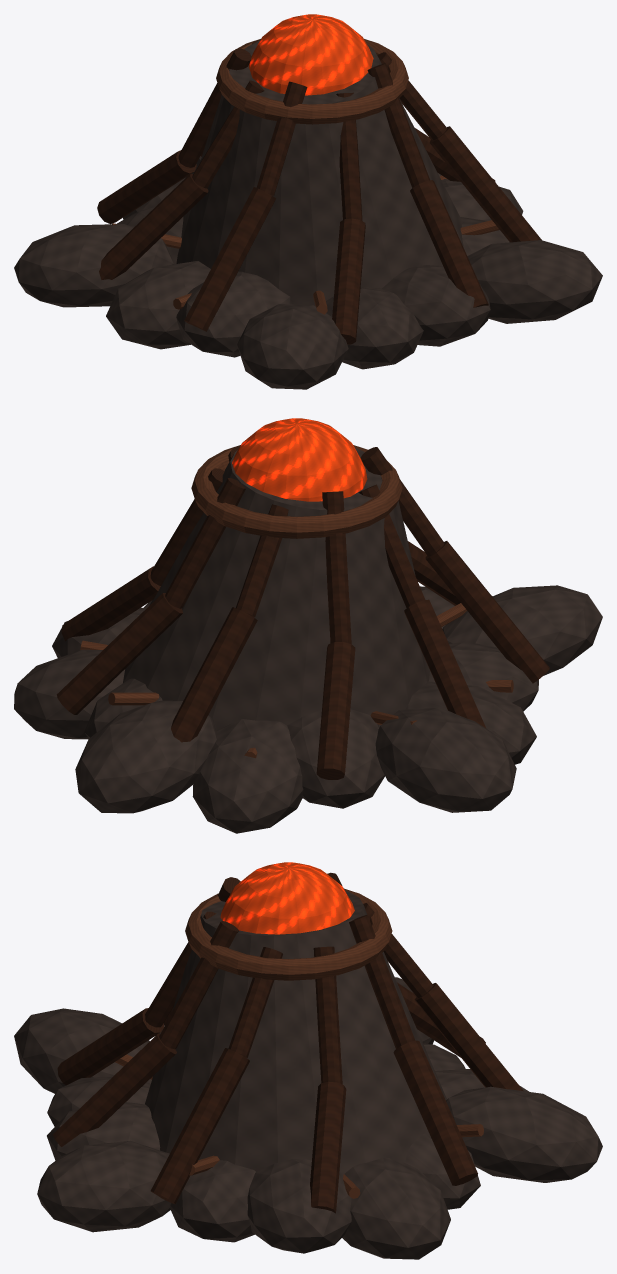
File: underworld-geothermal-vent-rootbound.glb
3 renders of one model, top to bottom at view 1: azimuth 30°, elevation 25°; view 2: azimuth 150°, elevation 25°; view 3: azimuth 270°, elevation 25°, orthographic. The views are drawn at different scales.
Parts seen in each view (by area): view 1: broken-vent, slag-foot-11, slag-foot-5, rootbound-throat, slag-foot-8, slag-foot-6, slag-foot-10, forged-collar, slag-foot-9, slag-foot-7, charred-root-a-5, charred-root-a-8 (+14 smaller); view 2: broken-vent, slag-foot-5, slag-foot-2, slag-foot-3, rootbound-throat, slag-foot-8, forged-collar, slag-foot-4, slag-foot-0, charred-root-a-5, charred-root-a-1, charred-root-a-2 (+15 smaller); view 3: broken-vent, slag-foot-2, slag-foot-11, slag-foot-0, rootbound-throat, slag-foot-13, forged-collar, slag-foot-8, slag-foot-12, charred-root-a-8, charred-root-a-1, charred-root-a-7 (+15 smaller).
Boxes of the visible parts, x1,y1,x2,y2 form: broken-vent: (176, 40, 463, 306); slag-foot-11: (467, 240, 602, 323); slag-foot-5: (14, 224, 173, 307); rootbound-throat: (248, 14, 373, 95); slag-foot-8: (237, 304, 348, 389); slag-foot-6: (106, 261, 210, 349); slag-foot-10: (382, 265, 490, 346); forged-collar: (216, 39, 408, 124); slag-foot-9: (326, 287, 423, 369); slag-foot-7: (176, 271, 291, 357); charred-root-a-5: (184, 187, 275, 331); charred-root-a-8: (429, 126, 541, 242); broken-vent: (123, 448, 429, 730); slag-foot-5: (375, 707, 516, 812); slag-foot-2: (75, 700, 216, 813); slag-foot-3: (192, 719, 303, 833); rootbound-throat: (232, 418, 367, 501); slag-foot-8: (442, 585, 602, 675); forged-collar: (191, 445, 402, 538); slag-foot-4: (287, 709, 384, 808); slag-foot-0: (14, 649, 124, 739); charred-root-a-5: (425, 541, 549, 683); charred-root-a-1: (56, 593, 182, 714); charred-root-a-2: (171, 607, 257, 742); broken-vent: (145, 891, 446, 1173); slag-foot-2: (446, 1086, 602, 1182); slag-foot-11: (37, 1140, 171, 1232); slag-foot-0: (342, 1158, 450, 1259); rootbound-throat: (220, 862, 354, 934); slag-foot-13: (247, 1159, 351, 1253); forged-collar: (185, 888, 392, 980); slag-foot-8: (14, 1008, 151, 1093); slag-foot-12: (170, 1159, 255, 1242); charred-root-a-8: (150, 1048, 249, 1204); charred-root-a-1: (393, 1040, 477, 1185); charred-root-a-7: (53, 1033, 176, 1146).
Size of the model in its own units: 3.19 by 1.91 by 3.32.
4 materials, 4 textured.
